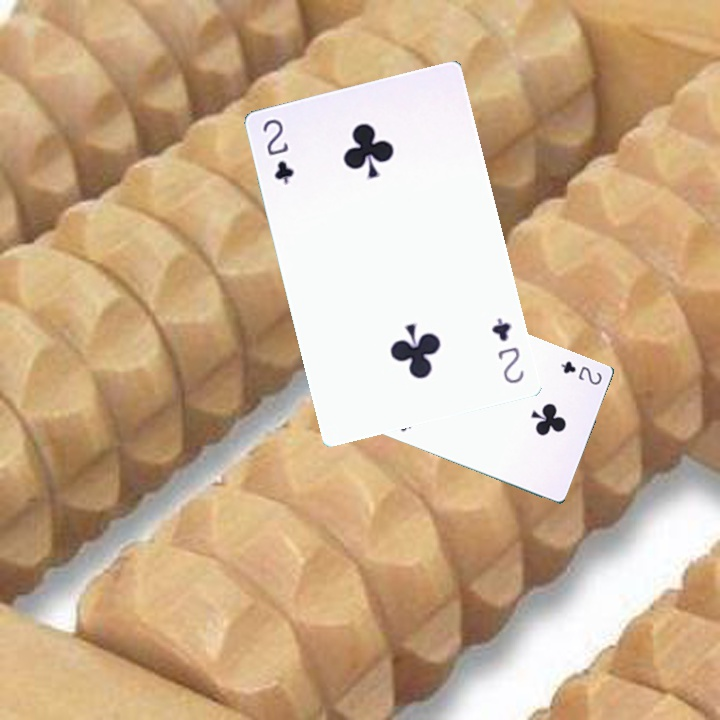2c: (487, 313, 527, 386), (258, 115, 297, 188), (557, 357, 605, 388)
